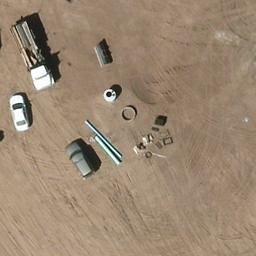car: (63, 139, 95, 180), (8, 94, 33, 130)
truck: (6, 20, 62, 91)
